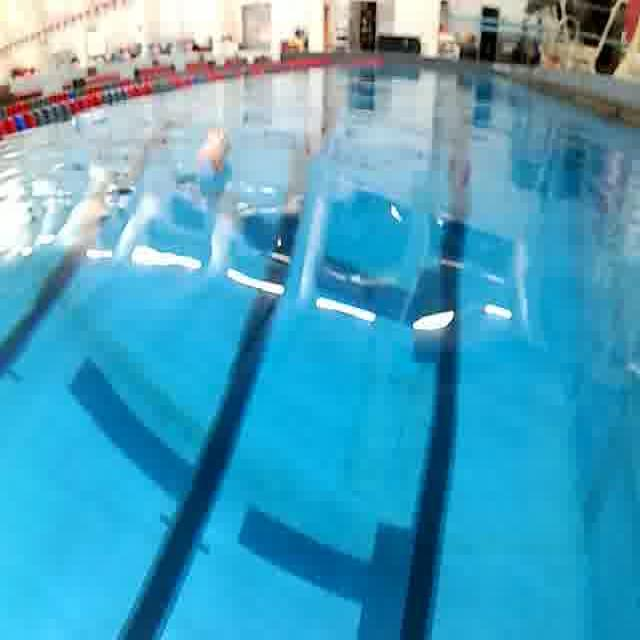Bottle: (185, 123, 238, 195)
